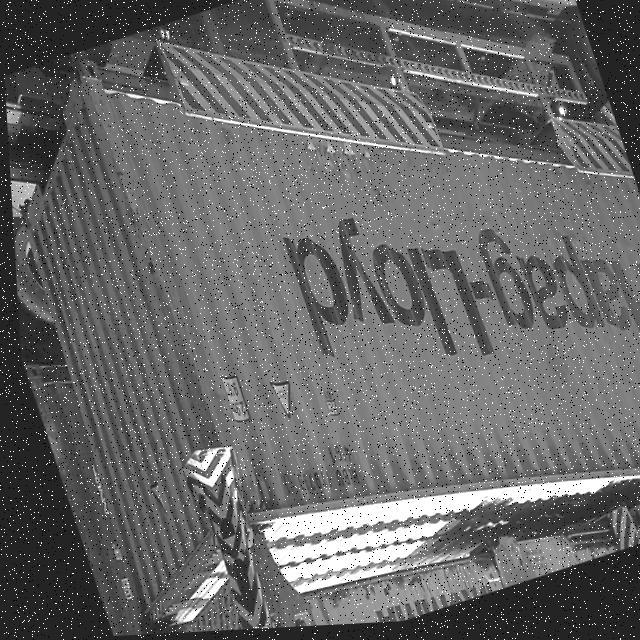rust: (70, 57, 217, 454)
